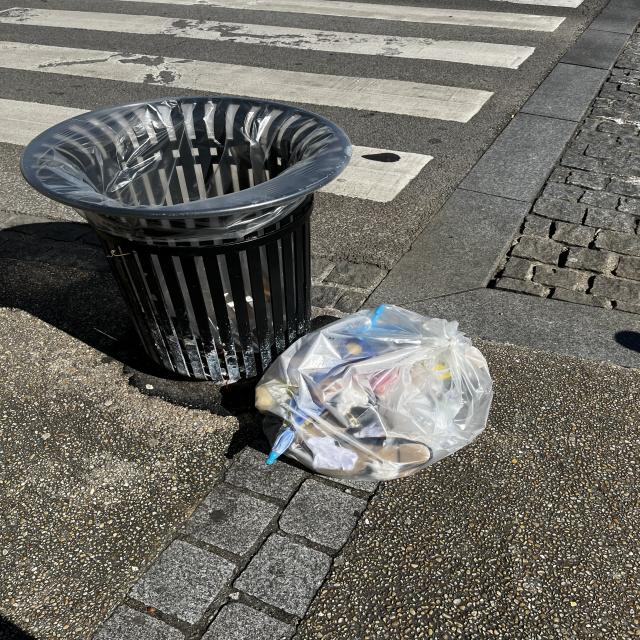Garbage bag: (248, 300, 494, 486)
